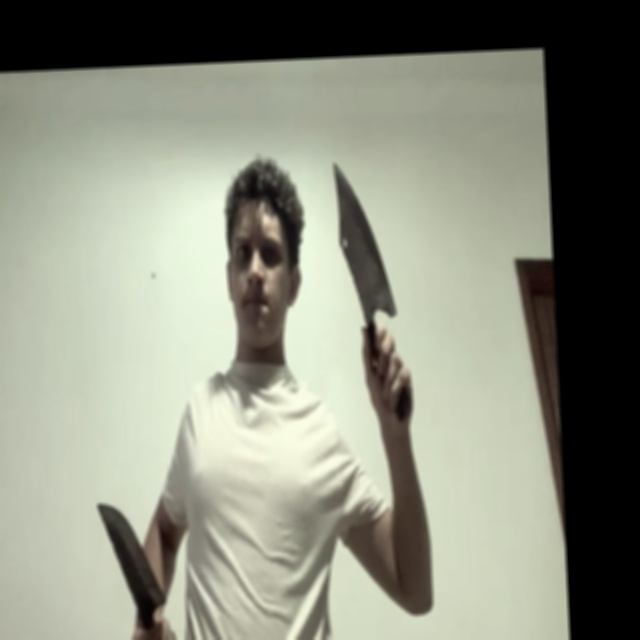Sharp-Object: (333, 159, 397, 322), (97, 499, 167, 612)
